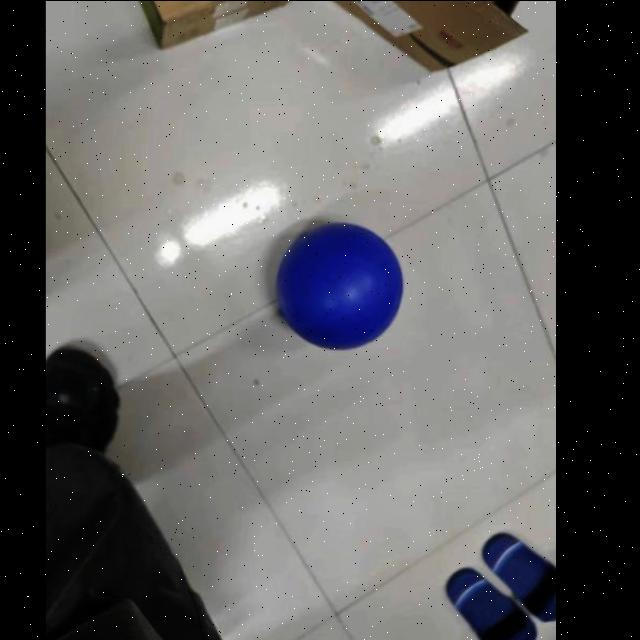B: (278, 218, 404, 354)
